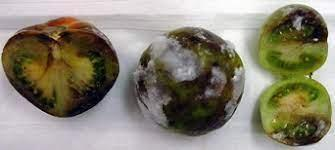tomato late blight: (133, 28, 247, 138), (2, 18, 122, 120), (260, 7, 331, 77), (262, 80, 332, 148)
